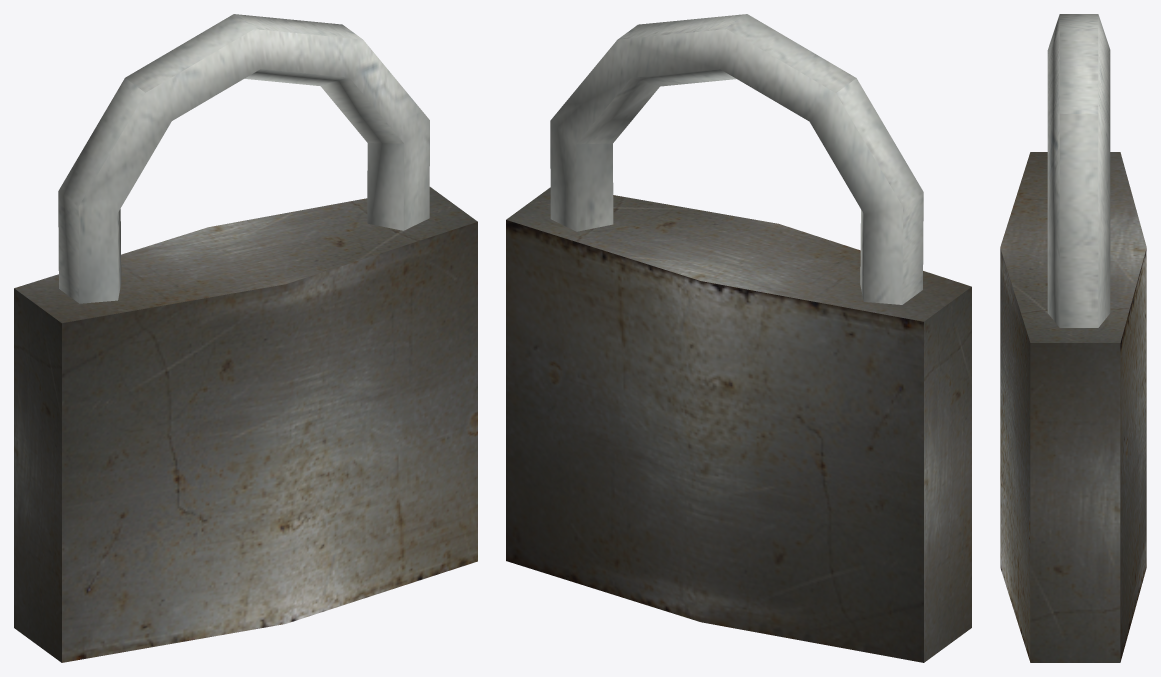
Rendered from padlock.FBX.
3 views of the same model, side by side, from view 1: azimuth 30°, elevation 25°; view 2: azimuth 150°, elevation 25°; view 3: azimuth 270°, elevation 25° (orthographic). The views are drawn at different scales.
Parts seen in each view (by area): view 1: Box001; view 2: Box001; view 3: Box001.
Boxes of the visible parts, bbox=[...] form: Box001: bbox=[14, 14, 477, 662]; Box001: bbox=[506, 14, 971, 662]; Box001: bbox=[1000, 14, 1146, 662].
Size of the model in its own units: 3.25 by 4.26 by 1.05.
1 material, 1 textured.
